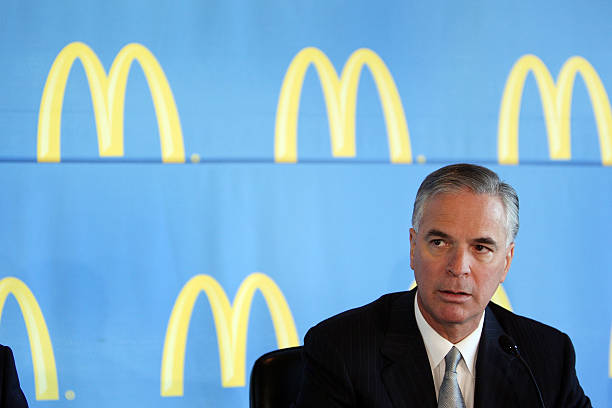mcdonalds: (35, 41, 184, 162), (156, 274, 299, 395), (274, 46, 416, 162), (494, 53, 610, 163), (0, 274, 59, 397)
